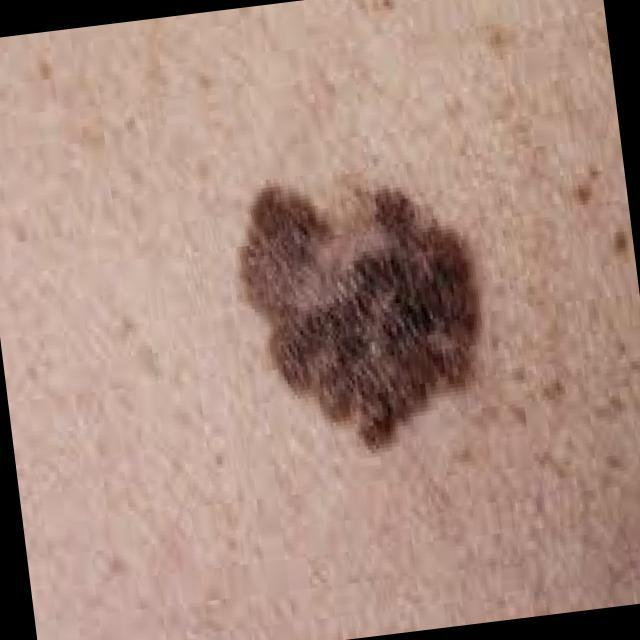Eczema: (235, 172, 489, 456)
